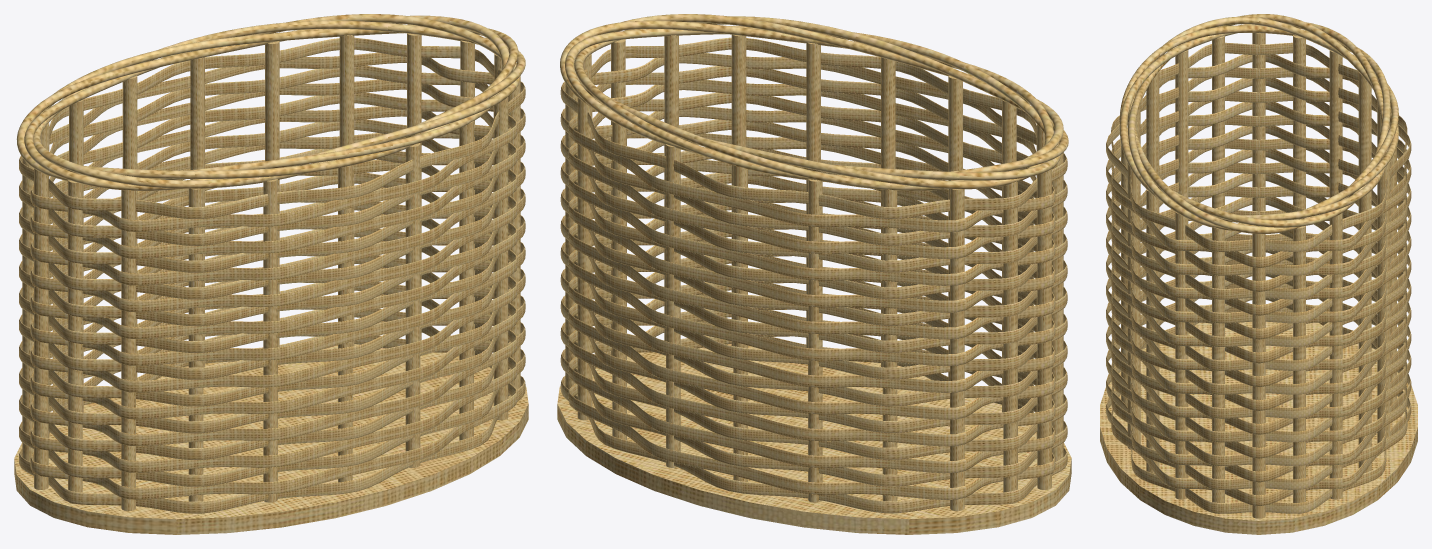
Rendered from flowerbasket.fbx.
3 views of the same model, side by side, from view 1: azimuth 30°, elevation 25°; view 2: azimuth 150°, elevation 25°; view 3: azimuth 270°, elevation 25° (orthographic). The views are drawn at different scales.
Visible parts, largest first — view 1: Basket_bottom, pCylinder26, extrudedSurface12, extrudedSurface13, extrudedSurface11, extrudedSurface14, extrudedSurface10, extrudedSurface15, extrudedSurface16, extrudedSurface9, extrudedSurface17, extrudedSurface7 (+31 smaller); view 2: Basket_bottom, pCylinder26, extrudedSurface12, extrudedSurface13, extrudedSurface14, extrudedSurface15, extrudedSurface11, extrudedSurface10, extrudedSurface16, extrudedSurface9, extrudedSurface17, extrudedSurface7 (+31 smaller); view 3: Basket_bottom, pCylinder26, extrudedSurface12, extrudedSurface13, extrudedSurface14, extrudedSurface11, extrudedSurface10, extrudedSurface9, extrudedSurface15, extrudedSurface17, extrudedSurface8, extrudedSurface16 (+31 smaller).
Part boxes in pixels (left/top/right/bottom): Basket_bottom: left=14, top=344, right=528, bottom=534; pCylinder26: left=16, top=14, right=525, bottom=190; extrudedSurface12: left=19, top=37, right=525, bottom=219; extrudedSurface13: left=30, top=52, right=517, bottom=231; extrudedSurface11: left=19, top=65, right=525, bottom=245; extrudedSurface14: left=30, top=79, right=517, bottom=258; extrudedSurface10: left=19, top=92, right=525, bottom=272; extrudedSurface15: left=30, top=106, right=517, bottom=285; extrudedSurface16: left=30, top=133, right=517, bottom=312; extrudedSurface9: left=19, top=119, right=525, bottom=299; extrudedSurface17: left=30, top=159, right=517, bottom=339; extrudedSurface7: left=19, top=172, right=525, bottom=352; Basket_bottom: left=557, top=344, right=1071, bottom=534; pCylinder26: left=560, top=14, right=1068, bottom=190; extrudedSurface12: left=560, top=37, right=1067, bottom=218; extrudedSurface13: left=568, top=53, right=1055, bottom=232; extrudedSurface14: left=568, top=79, right=1055, bottom=259; extrudedSurface15: left=568, top=106, right=1055, bottom=285; extrudedSurface11: left=560, top=66, right=1067, bottom=245; extrudedSurface10: left=560, top=92, right=1067, bottom=272; extrudedSurface16: left=568, top=133, right=1055, bottom=312; extrudedSurface9: left=560, top=119, right=1067, bottom=299; extrudedSurface17: left=568, top=160, right=1055, bottom=339; extrudedSurface7: left=560, top=173, right=1067, bottom=352; Basket_bottom: left=1100, top=321, right=1417, bottom=534; pCylinder26: left=1119, top=14, right=1398, bottom=233; extrudedSurface12: left=1106, top=42, right=1411, bottom=251; extrudedSurface13: left=1111, top=54, right=1407, bottom=268; extrudedSurface14: left=1111, top=78, right=1407, bottom=291; extrudedSurface11: left=1106, top=67, right=1411, bottom=275; extrudedSurface10: left=1106, top=91, right=1411, bottom=299; extrudedSurface9: left=1106, top=115, right=1411, bottom=323; extrudedSurface15: left=1111, top=102, right=1407, bottom=315; extrudedSurface17: left=1111, top=149, right=1407, bottom=363; extrudedSurface8: left=1106, top=138, right=1411, bottom=347; extrudedSurface16: left=1111, top=126, right=1407, bottom=339.
Bounding box in the file's own units: 18.88 × 13.22 × 12.1.
